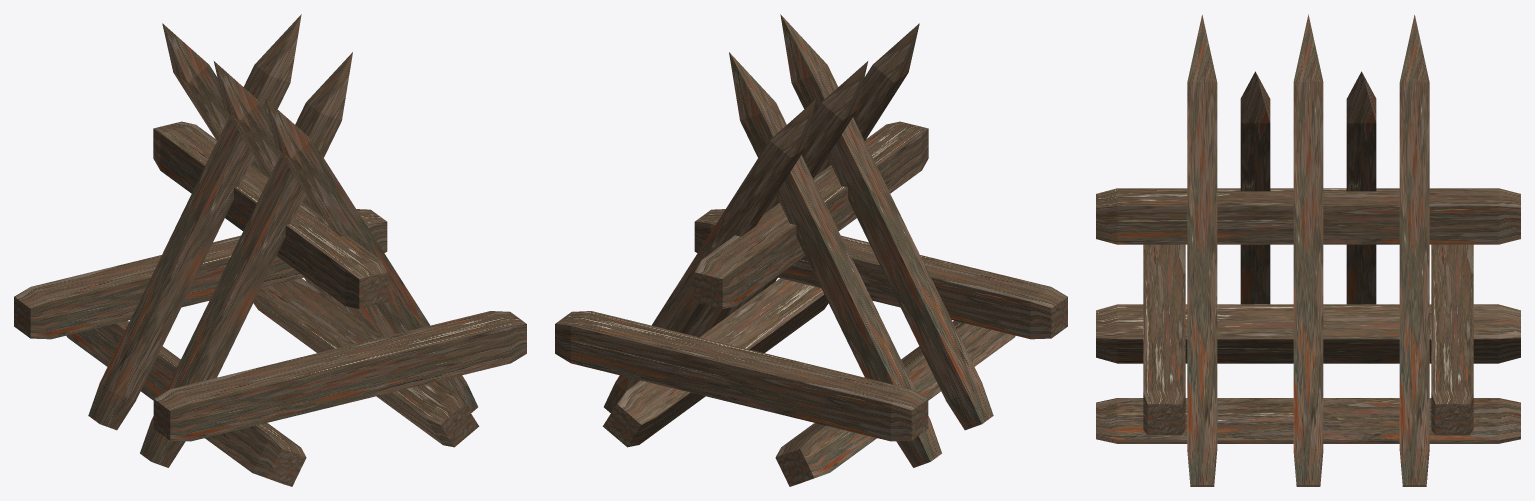
The model's file is barrier_2.fbx.
3 views of the same model, side by side, from view 1: azimuth 30°, elevation 25°; view 2: azimuth 150°, elevation 25°; view 3: azimuth 270°, elevation 25° (orthographic). The views are drawn at different scales.
Parts seen in each view (by area): view 1: Cube; view 2: Cube; view 3: Cube.
Part boxes in pixels (x1,y1,x2,y2): Cube: [14, 14, 526, 486]; Cube: [555, 14, 1067, 486]; Cube: [1096, 14, 1520, 486].
Size of the model in its own units: 200 by 196 by 200.
